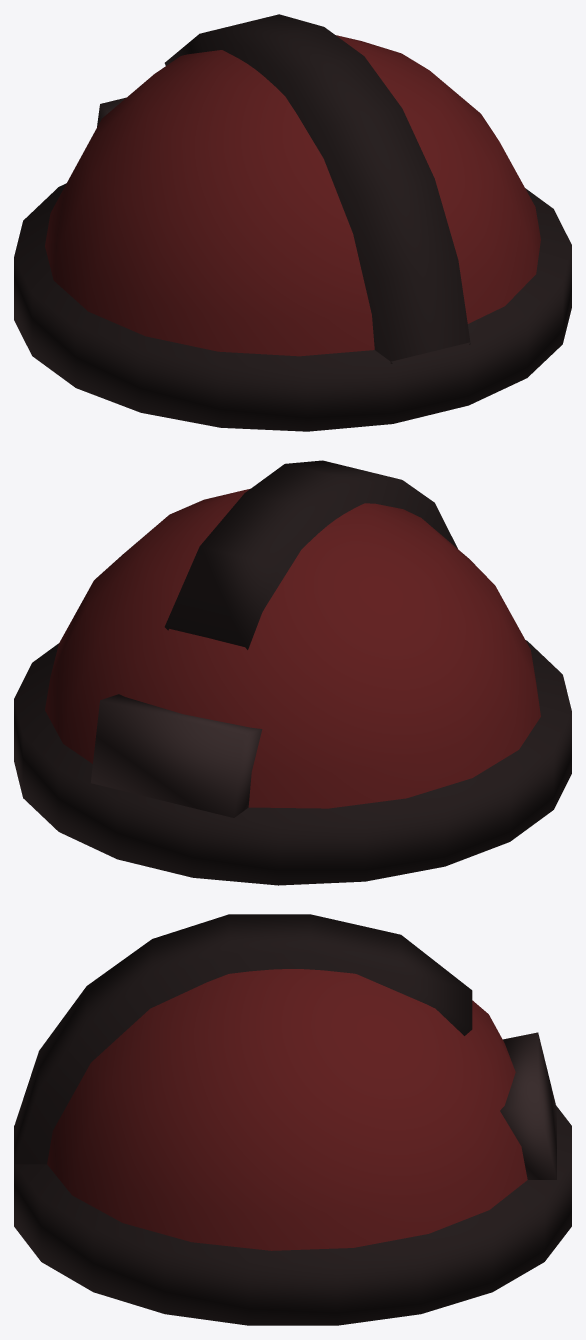
Rendered from BetterModel (4) (1).gltf.
3 renders of one model, top to bottom at view 1: azimuth 30°, elevation 25°; view 2: azimuth 150°, elevation 25°; view 3: azimuth 270°, elevation 25°, orthographic.
Visible parts, largest first — view 1: sphere, cylinder (×2); view 2: sphere, cylinder (×2), Hat; view 3: sphere, cylinder (×2), Hat.
Part boxes in pixels (left/top/right/bottom): sphere: left=45, top=35, right=540, bottom=356; cylinder (×2): left=14, top=14, right=571, bottom=431; sphere: left=45, top=488, right=540, bottom=808; cylinder (×2): left=14, top=460, right=571, bottom=885; Hat: left=91, top=694, right=262, bottom=817; sphere: left=47, top=969, right=527, bottom=1250; cylinder (×2): left=14, top=914, right=571, bottom=1325; Hat: left=500, top=1032, right=556, bottom=1179.
Bounding box in the file's own units: 0.75 × 0.4062 × 0.75.
1 material, 1 textured.
